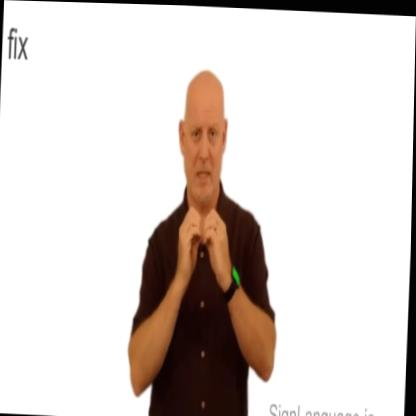Fix: (164, 172, 236, 307)
